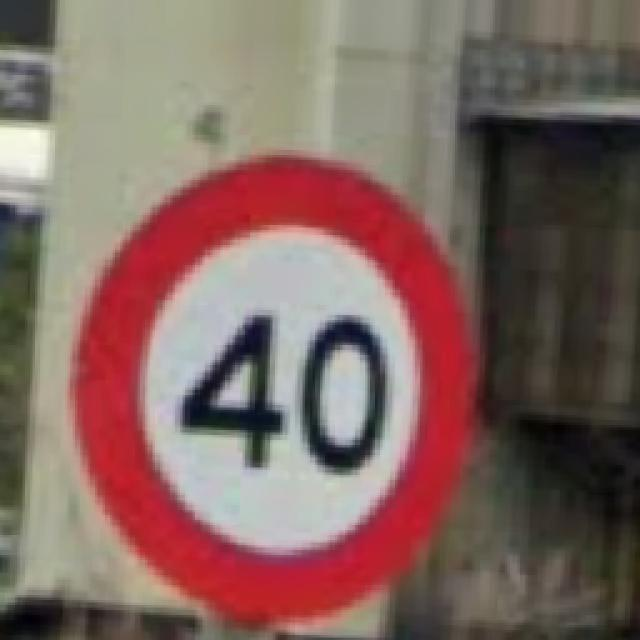Speed Limit -40-: (72, 155, 475, 622)
